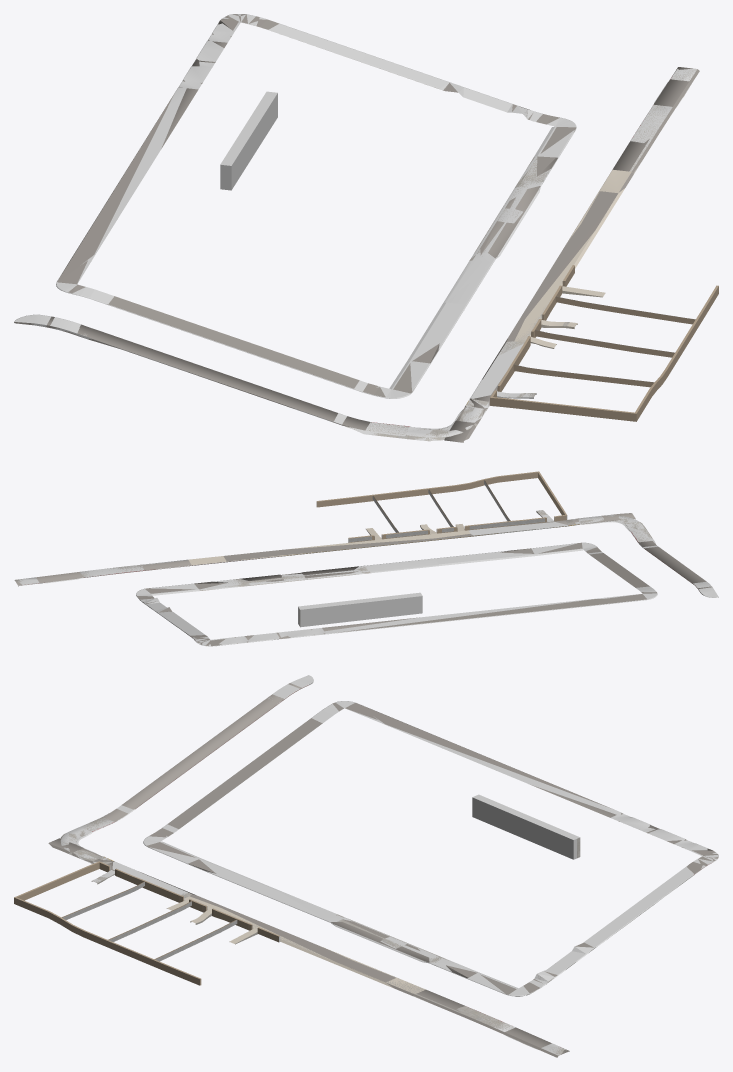
The model's file is sidewalk_projects.dae.
3 renders of one model, top to bottom at view 1: azimuth 30°, elevation 25°; view 2: azimuth 150°, elevation 25°; view 3: azimuth 270°, elevation 25°, orthographic. The views are drawn at different scales.
Parts seen in each view (by area): view 1: Colmesh-1, sidewalk_projects_a2000, sidewalk_projects_a3000; view 2: Colmesh-1, sidewalk_projects_a2000, sidewalk_projects_a3000; view 3: Colmesh-1, sidewalk_projects_a2000, sidewalk_projects_a3000.
Boxes of the visible parts, x1,y1,x2,y2 form: Colmesh-1: (14, 14, 718, 440); sidewalk_projects_a2000: (14, 14, 699, 442); sidewalk_projects_a3000: (343, 69, 696, 441); Colmesh-1: (18, 471, 718, 646); sidewalk_projects_a2000: (15, 513, 712, 646); sidewalk_projects_a3000: (14, 480, 703, 640); Colmesh-1: (14, 675, 718, 1055); sidewalk_projects_a2000: (48, 683, 718, 1057); sidewalk_projects_a3000: (60, 682, 712, 1055).
Bounding box in the file's own units: 195 × 177 × 18.26.
